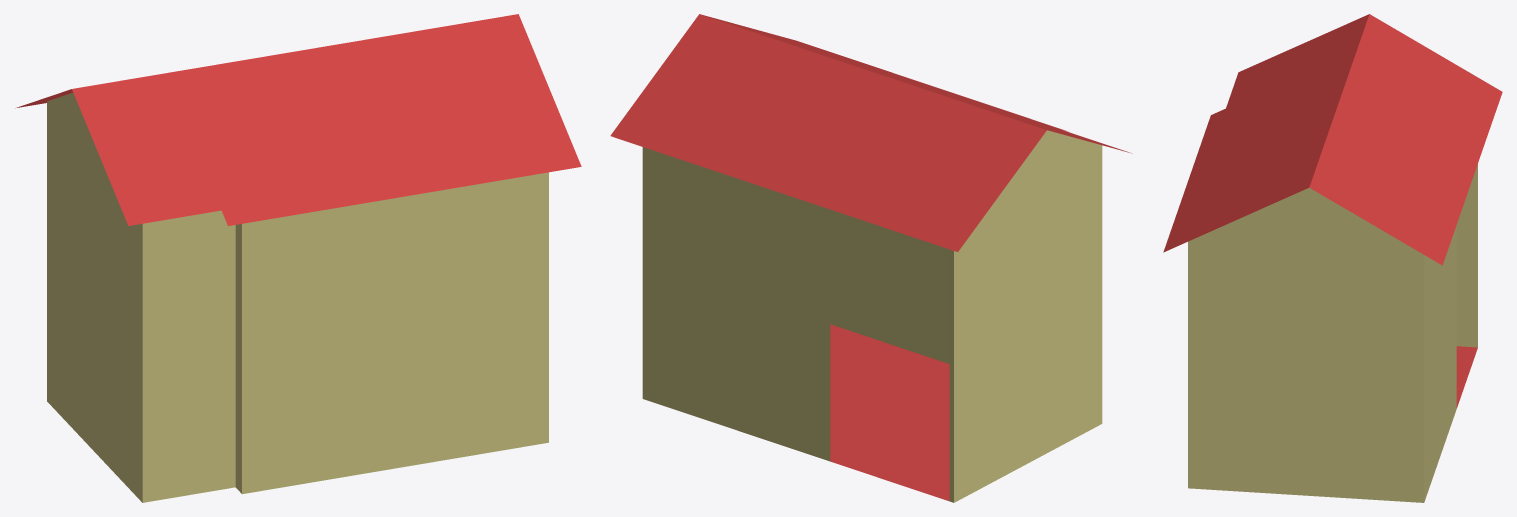
3 views of the same model, side by side, from view 1: azimuth 30°, elevation 25°; view 2: azimuth 150°, elevation 25°; view 3: azimuth 270°, elevation 25° (orthographic). The views are drawn at different scales.
Size of the model in its own units: 15.52 by 11.72 by 12.09.
